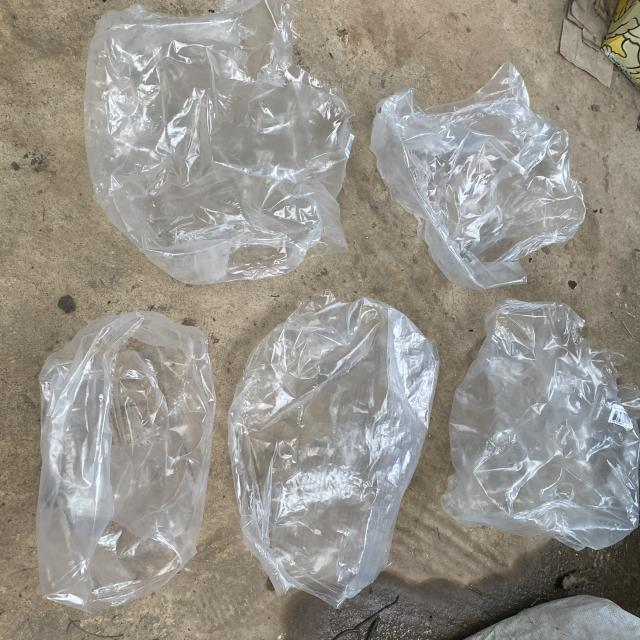Single-layer Plastic: (84, 0, 352, 284), (229, 291, 439, 608), (38, 312, 215, 612), (441, 300, 640, 550), (370, 61, 585, 289)
